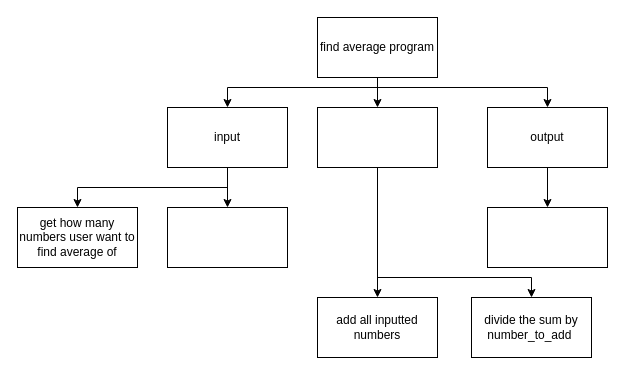
The diagram is 625 pixels wide and 375 high, and some of its shapes have lost their labels. Here are the shapes that lost their labels. From the top down, the centre of each, then its label:
At pixel 377 137: "process".
At pixel 227 237: "get numbers to find average".
At pixel 547 237: "show average".
